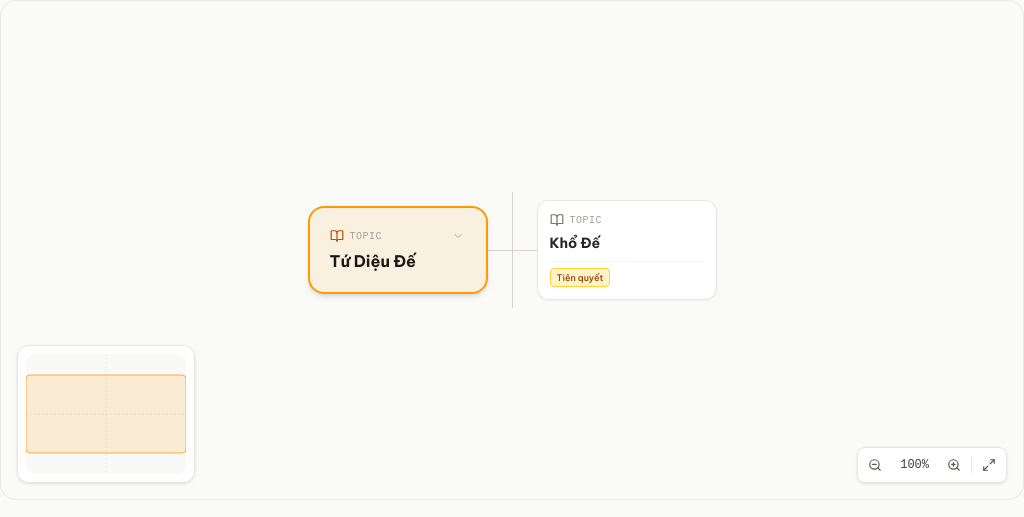
it: Mind Map Phase B1: Minimal Viewport Zoom Controls › Scenario 5: Reset button restores zoom scale back to 100%
The image size is (1024, 517).
What coordinates should you click on to do the following:
click the button with test id "btn-zoom-in"
I would click on:
 (954, 465)
Its box is x1=941 y1=452 x2=967 y2=478.
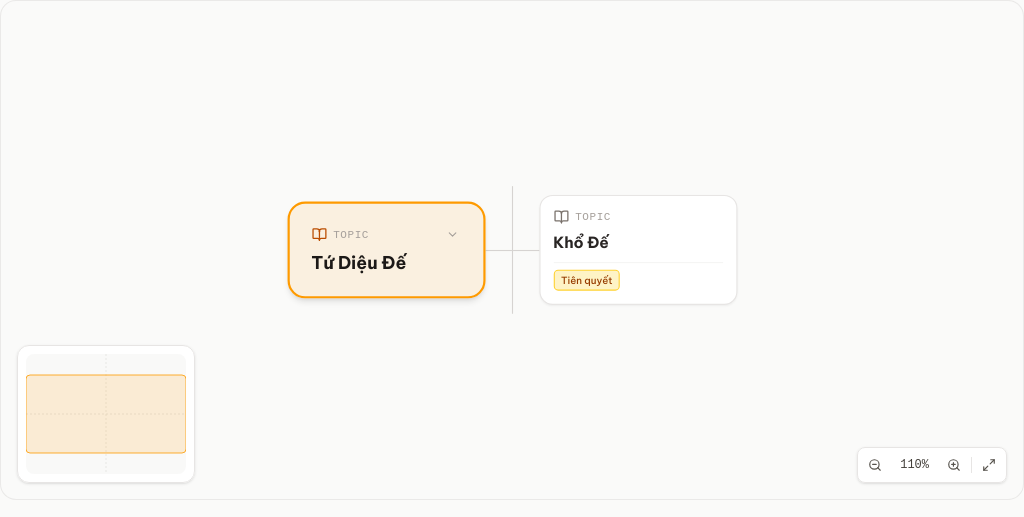
What coordinates should you click on to do the following:
click the button with test id "btn-zoom-in"
I would click on:
 (954, 465)
Its box is x1=941 y1=452 x2=967 y2=478.
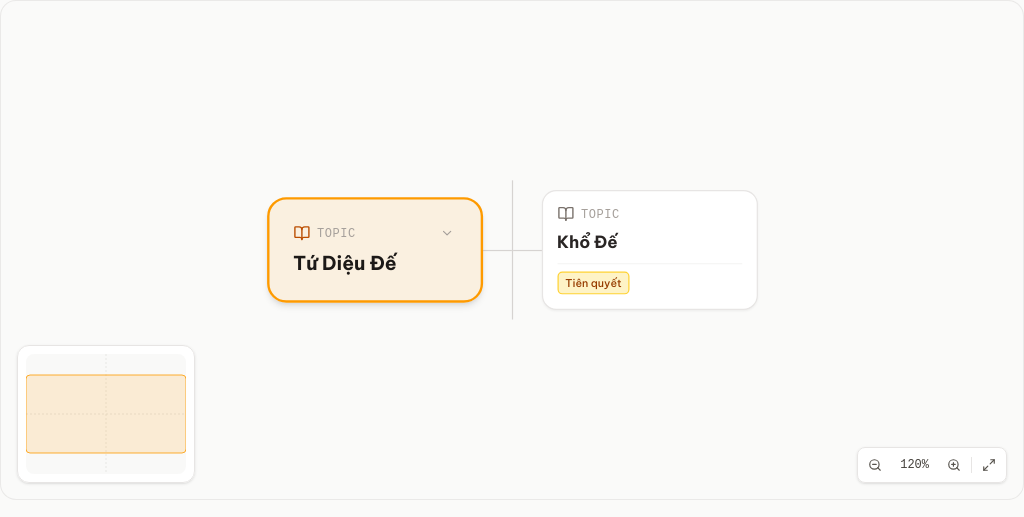
Result: the button with test id "btn-zoom-reset" reads "120%"
What coordinates should you click on to do the following:
click the button with test id "btn-zoom-reset"
I would click on:
 (915, 465)
Its box is x1=892 y1=453 x2=937 y2=477.
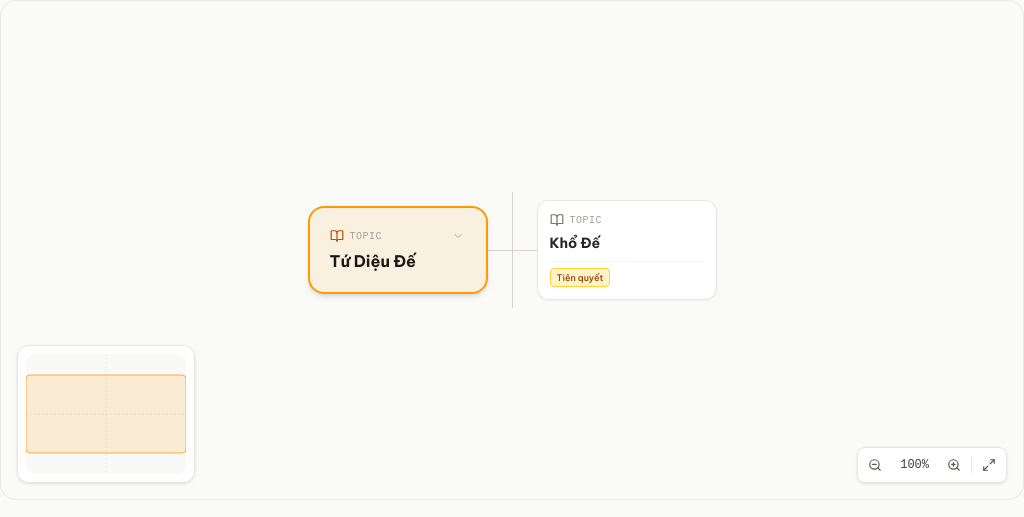
Result: the button with test id "btn-zoom-reset" reads "100%" at x1=892 y1=453 x2=937 y2=477
